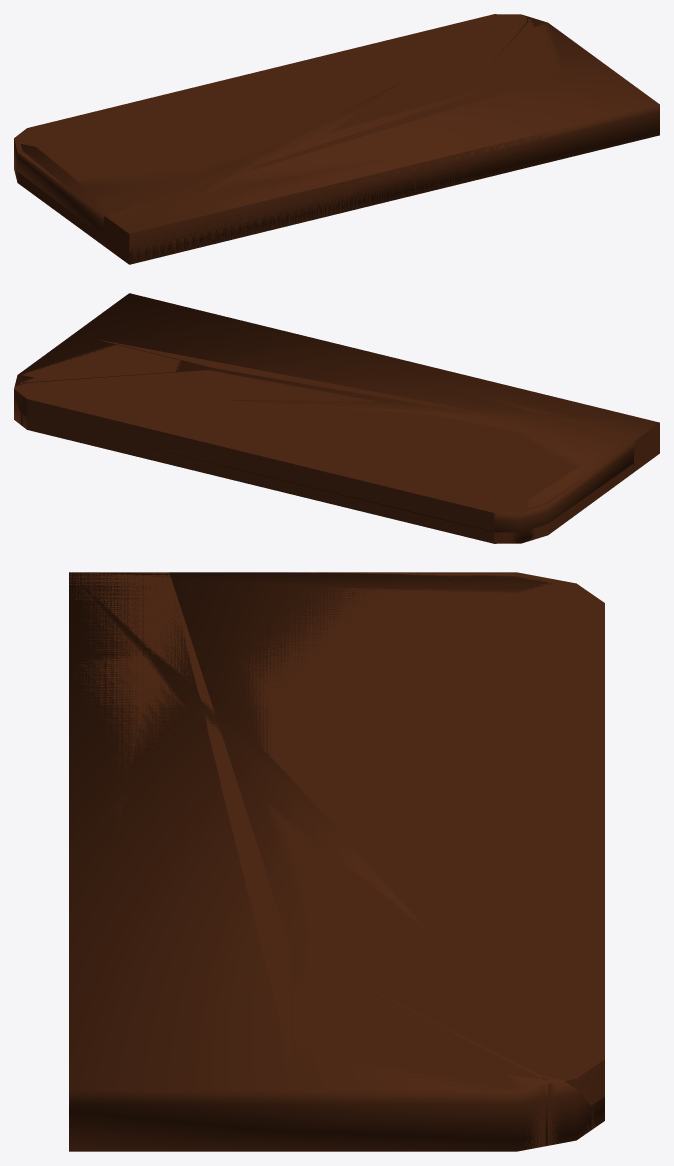
The model's file is Shelf_1.fbx.
3 views of the same model, one above another, from view 1: azimuth 30°, elevation 25°; view 2: azimuth 150°, elevation 25°; view 3: azimuth 270°, elevation 25° (orthographic). The views are drawn at different scales.
Parts seen in each view (by area): view 1: Shelf_01, Shelf_01_cell.001, Shelf_01_cell, Shelf_01_cell.003, Shelf_01_cell.004; view 2: Shelf_01_cell.001, Shelf_01, Shelf_01_cell.004, Shelf_01_cell, Shelf_01_cell.003; view 3: Shelf_01, Shelf_01_cell.001, Shelf_01_cell, Shelf_01_cell.003.
Part boxes in pixels (<box>): Shelf_01: <box>14,15,659,264</box>; Shelf_01_cell.001: <box>14,14,526,190</box>; Shelf_01_cell: <box>103,69,659,264</box>; Shelf_01_cell.003: <box>476,21,563,89</box>; Shelf_01_cell.004: <box>15,165,102,244</box>; Shelf_01_cell.001: <box>14,370,592,531</box>; Shelf_01: <box>14,293,659,543</box>; Shelf_01_cell.004: <box>21,414,633,543</box>; Shelf_01_cell: <box>95,335,659,472</box>; Shelf_01_cell.003: <box>22,344,181,382</box>; Shelf_01: <box>69,572,604,1151</box>; Shelf_01_cell.001: <box>233,572,604,1105</box>; Shelf_01_cell: <box>70,572,291,1068</box>; Shelf_01_cell.003: <box>293,976,545,1149</box>.
Size of the model in its own units: 114 by 6.33 by 49.82.
